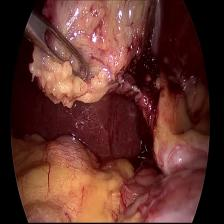Grasper: (21, 4, 94, 87)
